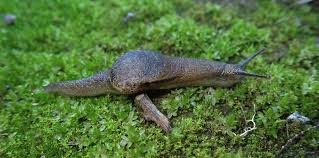slug: (51, 49, 268, 98)
